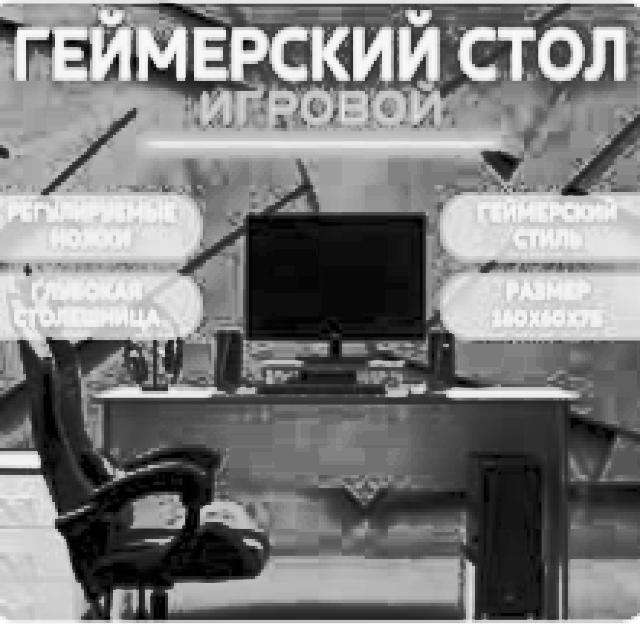book: (6, 259, 269, 620)
table: (90, 380, 588, 620)
